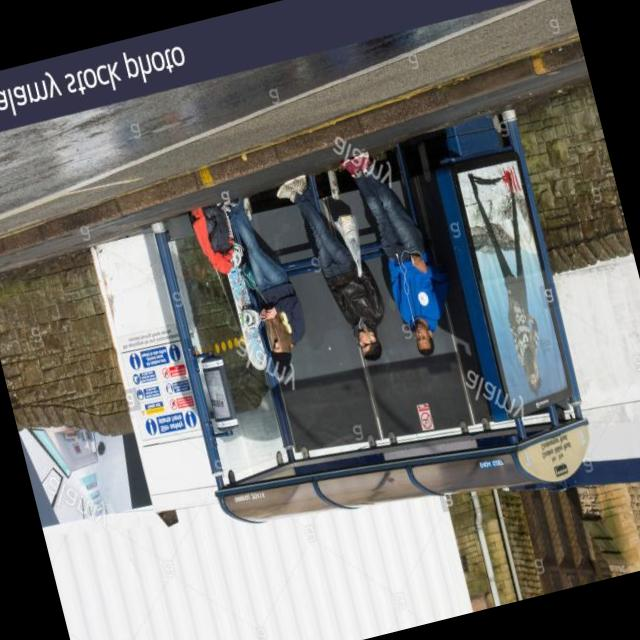bareface: (412, 320, 432, 350), (357, 329, 372, 354), (270, 334, 284, 354)
